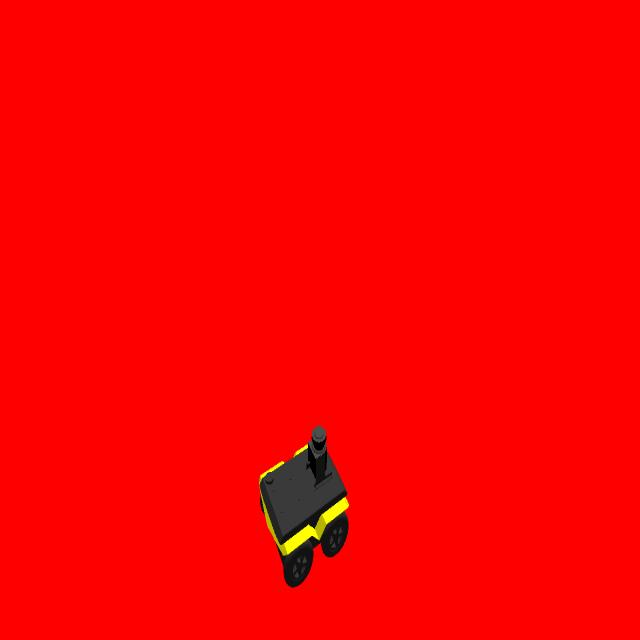jackal: (259, 422, 348, 590)
